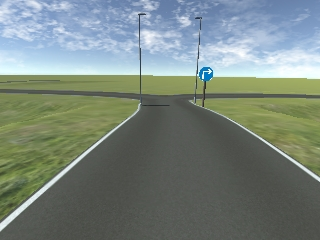right: (199, 67, 213, 82)
